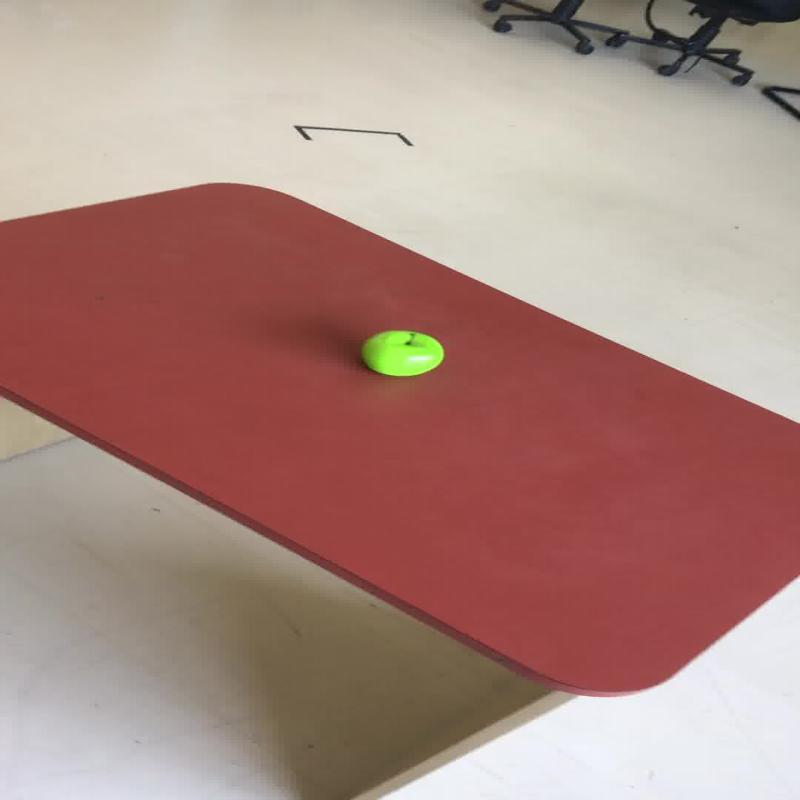apple: (359, 329, 444, 376)
